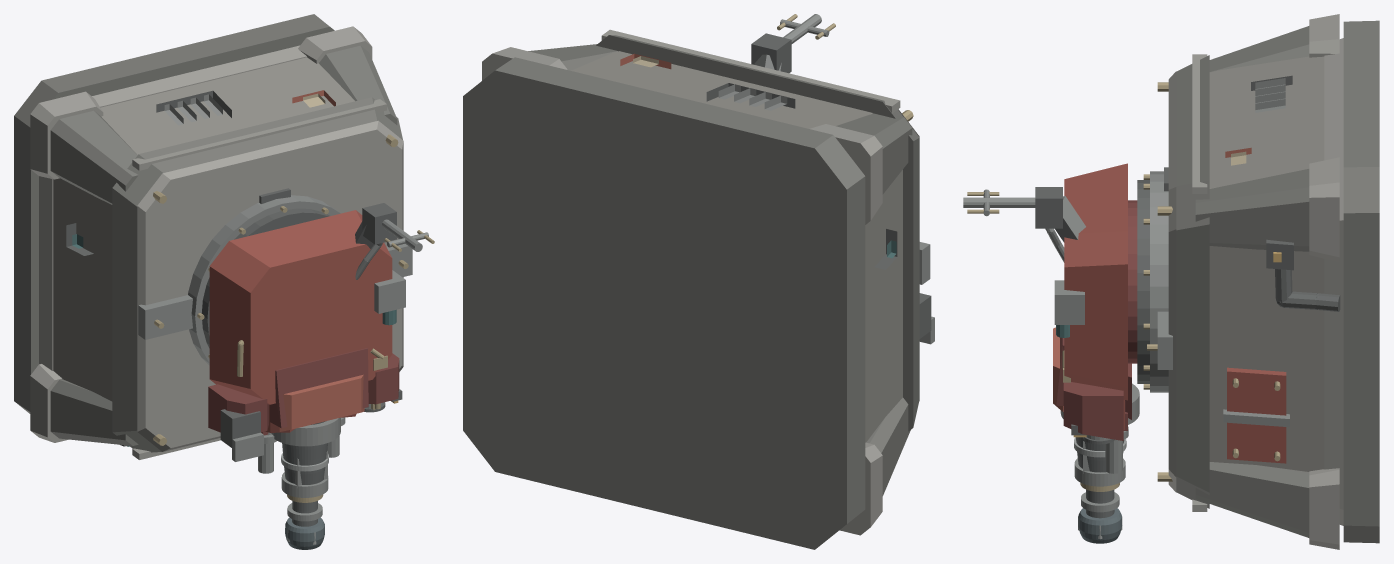
File: martian_heavy_weapon_bunker_source_geometry_v07.glb
3 renders of one model, left to right at view 1: azimuth 30°, elevation 25°; view 2: azimuth 150°, elevation 25°; view 3: azimuth 270°, elevation 25°, orthographic. The views are drawn at different scales.
Visible parts, largest first — view 1: 05_top_concrete_skin, 16_martian_red_turret_armor, 03_monolithic_bunker_mass, 01_foundation_granular_ferrocrete, 04_upper_blast_cap, 02_lower_blast_raft, 06_corner_armor_buttress_WN, 06_corner_armor_buttress_WS, 13_ring_lower_bearing_seat, 19_roof_to_mantlet_transition, 19_mantlet_upper_brow, 07_corner_buttress_foot_WN (+18 smaller); view 2: 01_foundation_granular_ferrocrete, 03_monolithic_bunker_mass, 04_upper_blast_cap, 07_corner_buttress_foot_WN, 06_corner_armor_buttress_WN, 06_corner_armor_buttress_WS, 07_corner_buttress_foot_WS, 54_north_slab_anchor_strip, 31_antenna_base, 06_corner_armor_buttress_EN, 07_corner_buttress_foot_EN; view 3: 03_monolithic_bunker_mass, 01_foundation_granular_ferrocrete, 04_upper_blast_cap, 16_martian_red_turret_armor, 06_corner_armor_buttress_EN, 02_lower_blast_raft, 06_corner_armor_buttress_ES, 55_east_wall_controller_armor, 05_top_concrete_skin, 13_ring_lower_bearing_seat, 07_corner_buttress_foot_EN, 18_turret_front_cheek_E (+20 smaller).
Part boxes in pixels (left/top/right/bottom): 05_top_concrete_skin: left=137, top=120, right=403, bottom=451; 16_martian_red_turret_armor: left=209, top=210, right=392, bottom=404; 03_monolithic_bunker_mass: left=53, top=57, right=354, bottom=401; 01_foundation_granular_ferrocrete: left=14, top=14, right=334, bottom=413; 04_upper_blast_cap: left=112, top=97, right=402, bottom=452; 02_lower_blast_raft: left=39, top=45, right=306, bottom=370; 06_corner_armor_buttress_WN: left=50, top=110, right=138, bottom=204; 06_corner_armor_buttress_WS: left=50, top=379, right=138, bottom=445; 13_ring_lower_bearing_seat: left=188, top=195, right=340, bottom=365; 19_roof_to_mantlet_transition: left=270, top=348, right=368, bottom=428; 19_mantlet_upper_brow: left=279, top=374, right=364, bottom=431; 07_corner_buttress_foot_WN: left=30, top=91, right=103, bottom=179; 01_foundation_granular_ferrocrete: left=463, top=57, right=865, bottom=549; 03_monolithic_bunker_mass: left=571, top=51, right=902, bottom=442; 04_upper_blast_cap: left=596, top=35, right=919, bottom=431; 07_corner_buttress_foot_WN: left=809, top=124, right=882, bottom=224; 06_corner_armor_buttress_WN: left=836, top=113, right=912, bottom=194; 06_corner_armor_buttress_WS: left=866, top=397, right=910, bottom=495; 07_corner_buttress_foot_WS: left=839, top=442, right=882, bottom=535; 54_north_slab_anchor_strip: left=601, top=29, right=900, bottom=113; 31_antenna_base: left=751, top=33, right=791, bottom=73; 06_corner_armor_buttress_EN: left=528, top=44, right=617, bottom=70; 07_corner_buttress_foot_EN: left=482, top=47, right=567, bottom=80; 03_monolithic_bunker_mass: left=1209, top=56, right=1324, bottom=471; 01_foundation_granular_ferrocrete: left=1343, top=20, right=1379, bottom=543; 04_upper_blast_cap: left=1176, top=55, right=1209, bottom=508; 16_martian_red_turret_armor: left=1064, top=163, right=1127, bottom=400; 06_corner_armor_buttress_EN: left=1195, top=169, right=1309, bottom=251; 02_lower_blast_raft: left=1324, top=38, right=1343, bottom=525; 06_corner_armor_buttress_ES: left=1195, top=462, right=1309, bottom=537; 55_east_wall_controller_armor: left=1227, top=367, right=1286, bottom=463; 05_top_concrete_skin: left=1168, top=71, right=1176, bottom=492; 13_ring_lower_bearing_seat: left=1150, top=171, right=1168, bottom=392; 07_corner_buttress_foot_EN: left=1309, top=157, right=1339, bottom=262; 18_turret_front_cheek_E: left=1063, top=382, right=1123, bottom=440.
Bounding box in the file's own units: 3.04 × 3.53 × 3.01.
